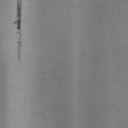slag inclusion: (14, 0, 23, 61)
